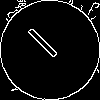I: (25, 25, 67, 67)
